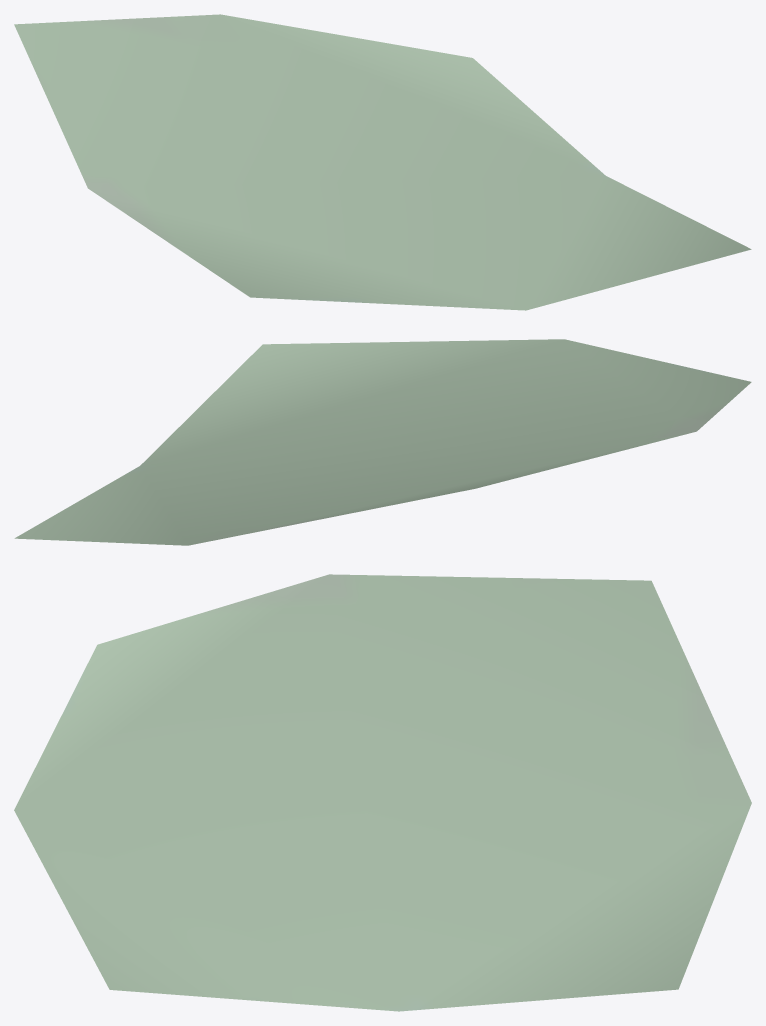
File: TROLLHOLE02_HOLECAP137.fbx
3 views of the same model, one above another, from view 1: azimuth 30°, elevation 25°; view 2: azimuth 150°, elevation 25°; view 3: azimuth 270°, elevation 25° (orthographic). The views are drawn at different scales.
Visible parts, largest first — view 1: TROLLHOLE02_HOLECAP137; view 2: TROLLHOLE02_HOLECAP137; view 3: TROLLHOLE02_HOLECAP137.
Part boxes in pixels (left/top/right/bottom): TROLLHOLE02_HOLECAP137: left=14, top=14, right=751, bottom=310; TROLLHOLE02_HOLECAP137: left=14, top=339, right=751, bottom=545; TROLLHOLE02_HOLECAP137: left=14, top=574, right=751, bottom=1011.
Bounding box in the file's own units: 21056 × 6427 × 22823.
1 material, 1 textured.
